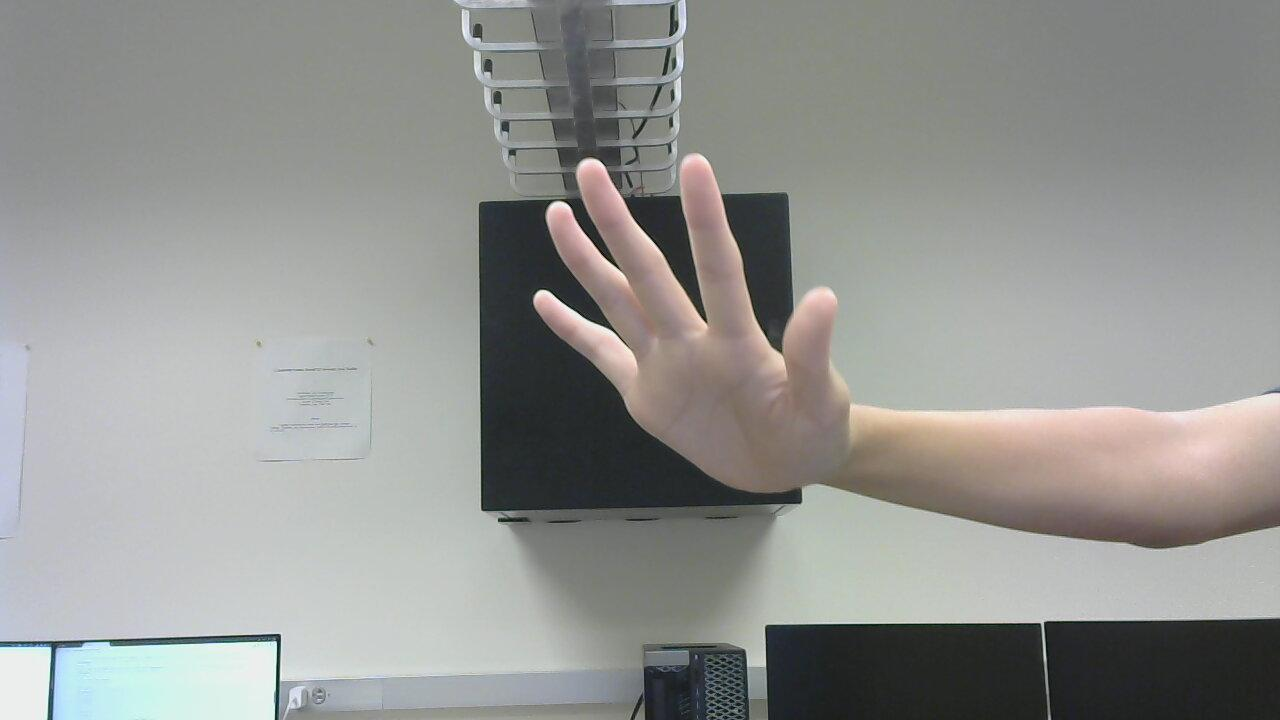hands: (525, 149, 853, 494)
